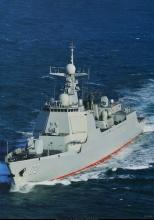warship: (2, 40, 147, 194)
